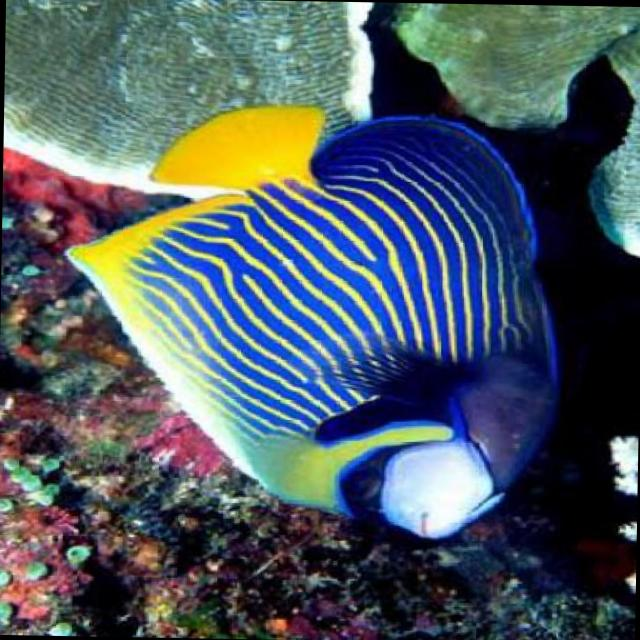AngelFish: (59, 104, 566, 540)
